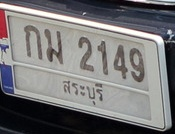txt01: (22, 24, 43, 61)
txt28: (43, 27, 64, 65)
